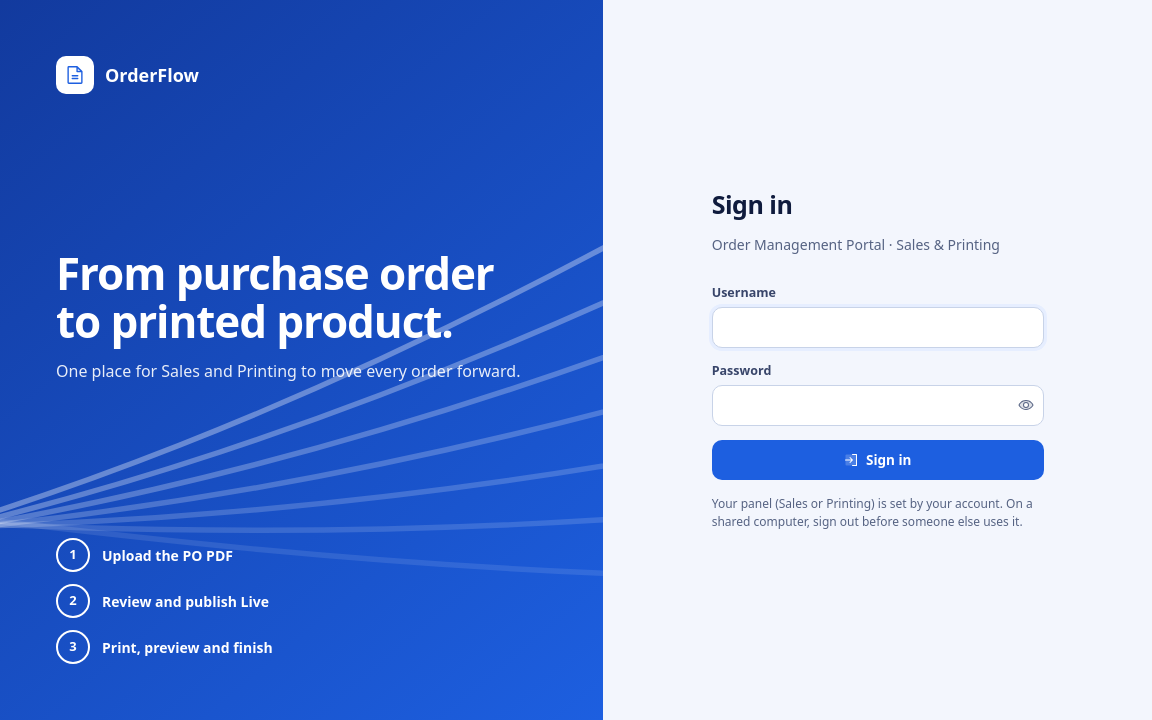
Test case: Login page › hides the password by default and shows it with the eye button
The image size is (1152, 720).
Type "Secret-Pass-1" into the password field labelled "Password" at point(878, 405), box x1=712 y1=385 x2=1044 y2=426
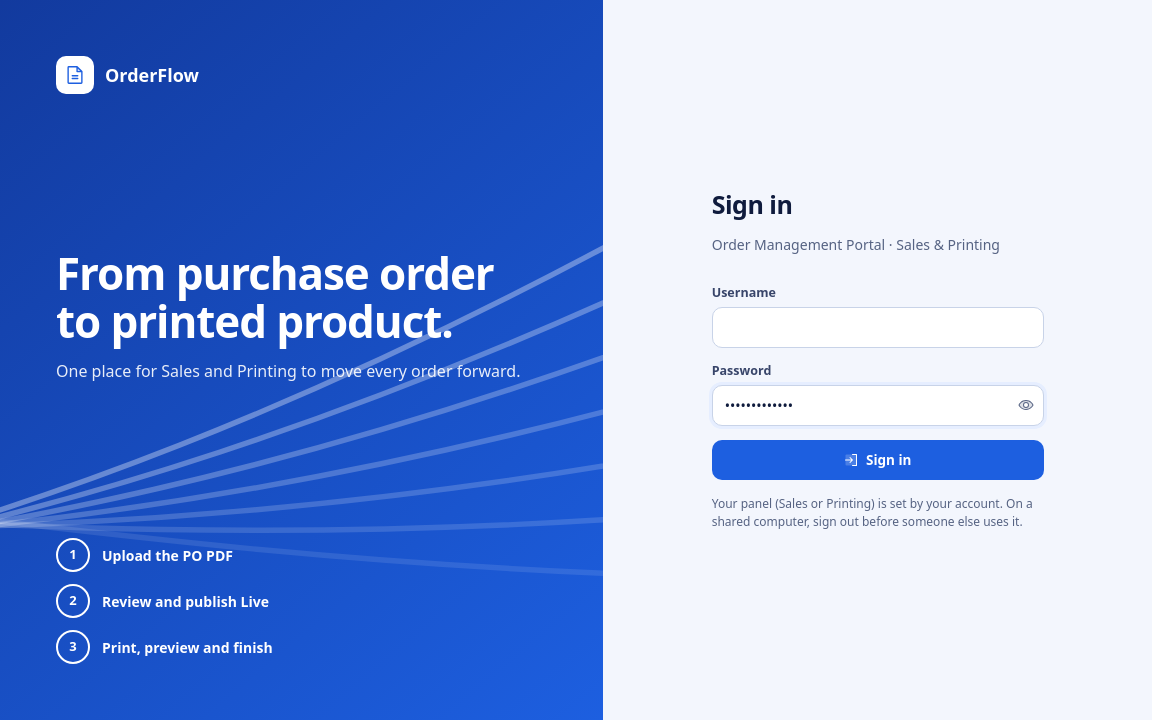
Click the button named "Show password" at point(1026, 405), box x1=1012 y1=391 x2=1040 y2=419
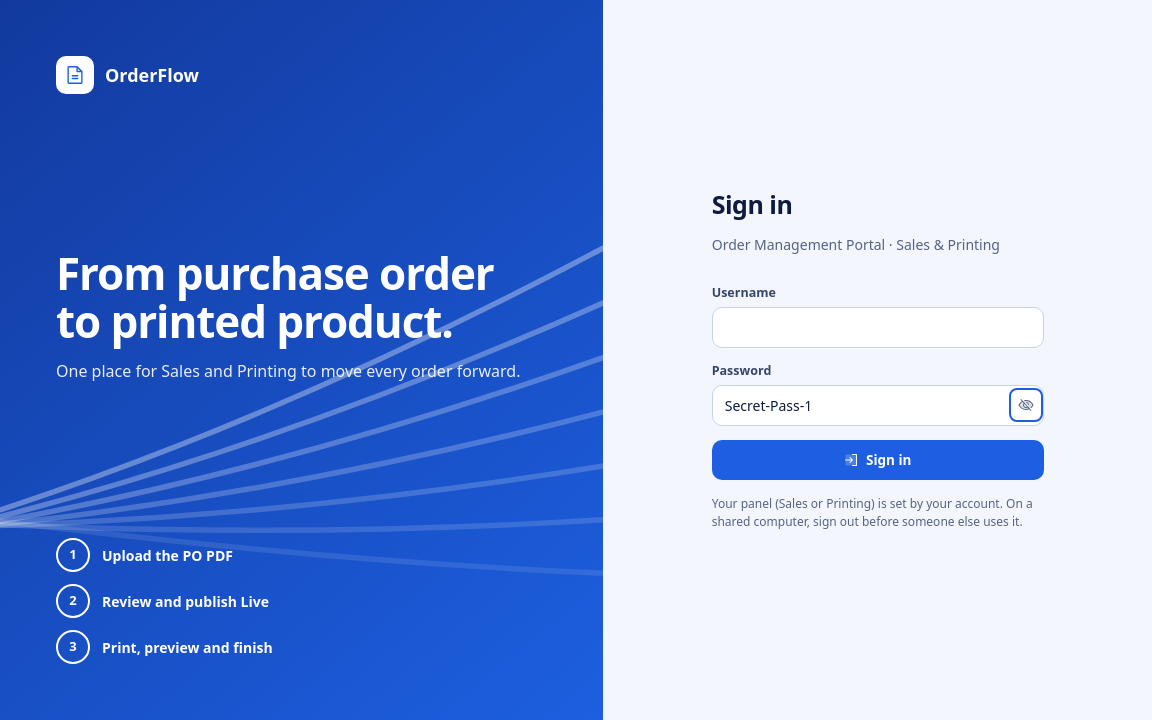
Check: the field labelled "Password" shows its text, box x1=712 y1=385 x2=1044 y2=426
Click the button named "Hide password" at point(1026, 405), box x1=1012 y1=391 x2=1040 y2=419
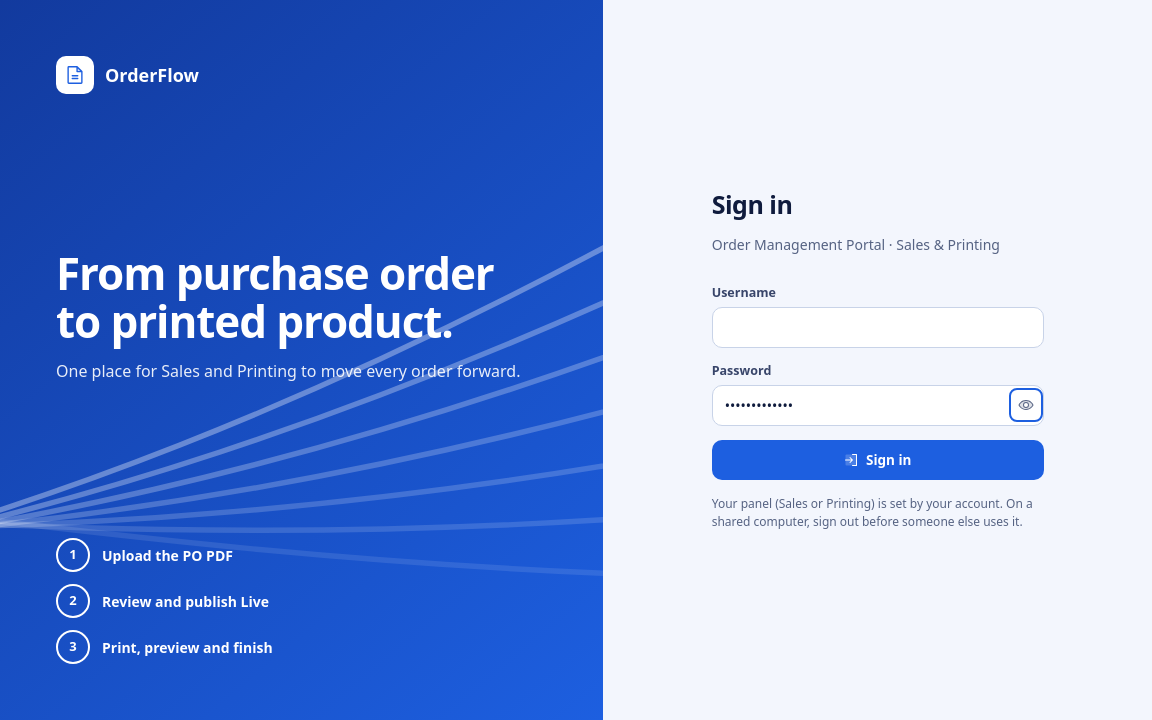
Check: the password field labelled "Password" hides its text, box x1=712 y1=385 x2=1044 y2=426
